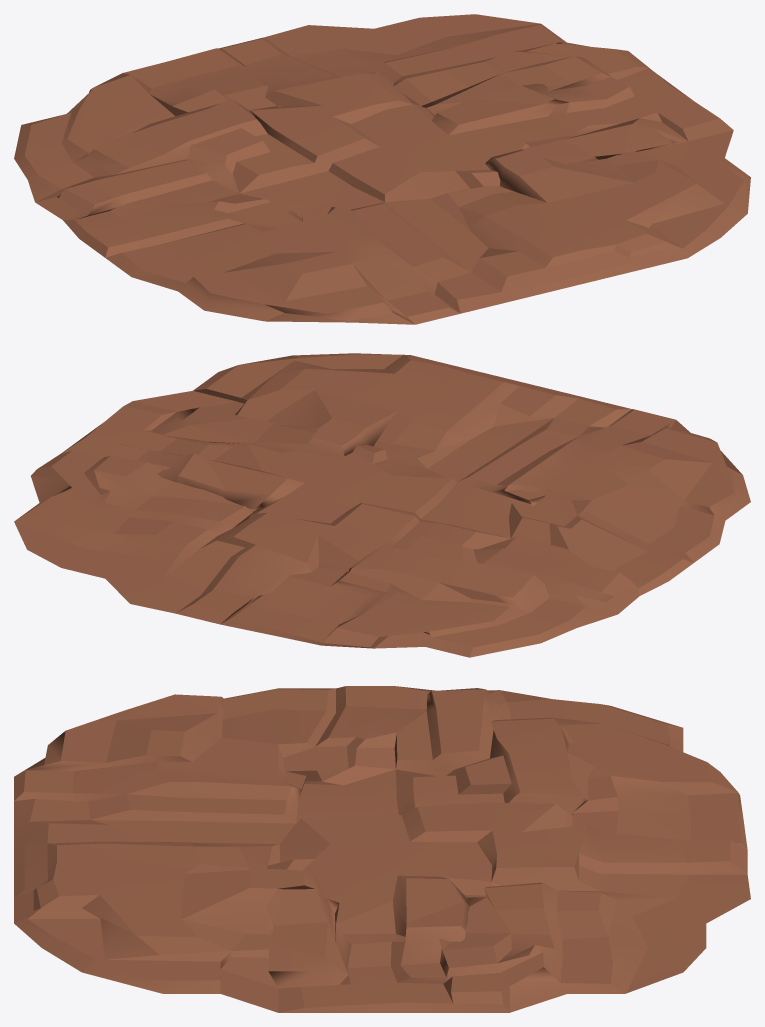
The model's file is wolken dek.fbx.
The picture shows the model from 3 angles, top to bottom: view 1: azimuth 30°, elevation 25°; view 2: azimuth 150°, elevation 25°; view 3: azimuth 270°, elevation 25°; orthographic projection. The views are drawn at different scales.
Visible parts, largest first — view 1: pPlane2; view 2: pPlane2; view 3: pPlane2.
Boxes of the visible parts, bbox=[...] form: pPlane2: bbox=[14, 14, 750, 324]; pPlane2: bbox=[14, 353, 750, 657]; pPlane2: bbox=[14, 686, 750, 1012].
Bounding box in the file's own units: 169 × 5.82 × 162.
